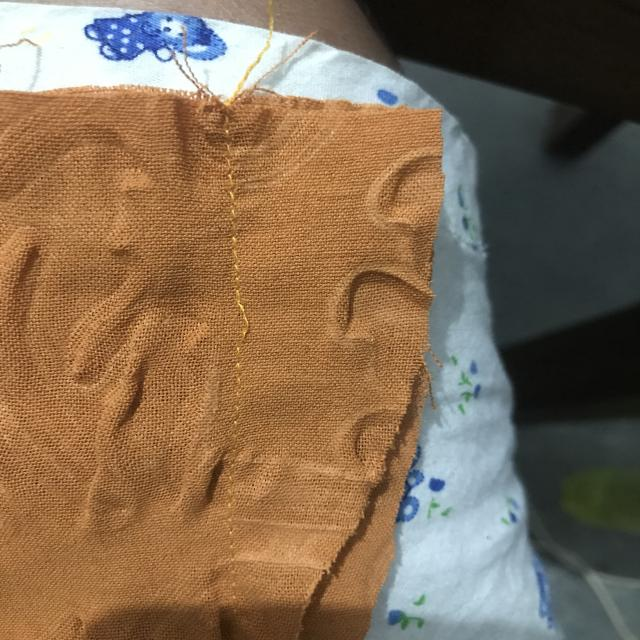good: (218, 197, 252, 275)
skip: (226, 297, 264, 367)
